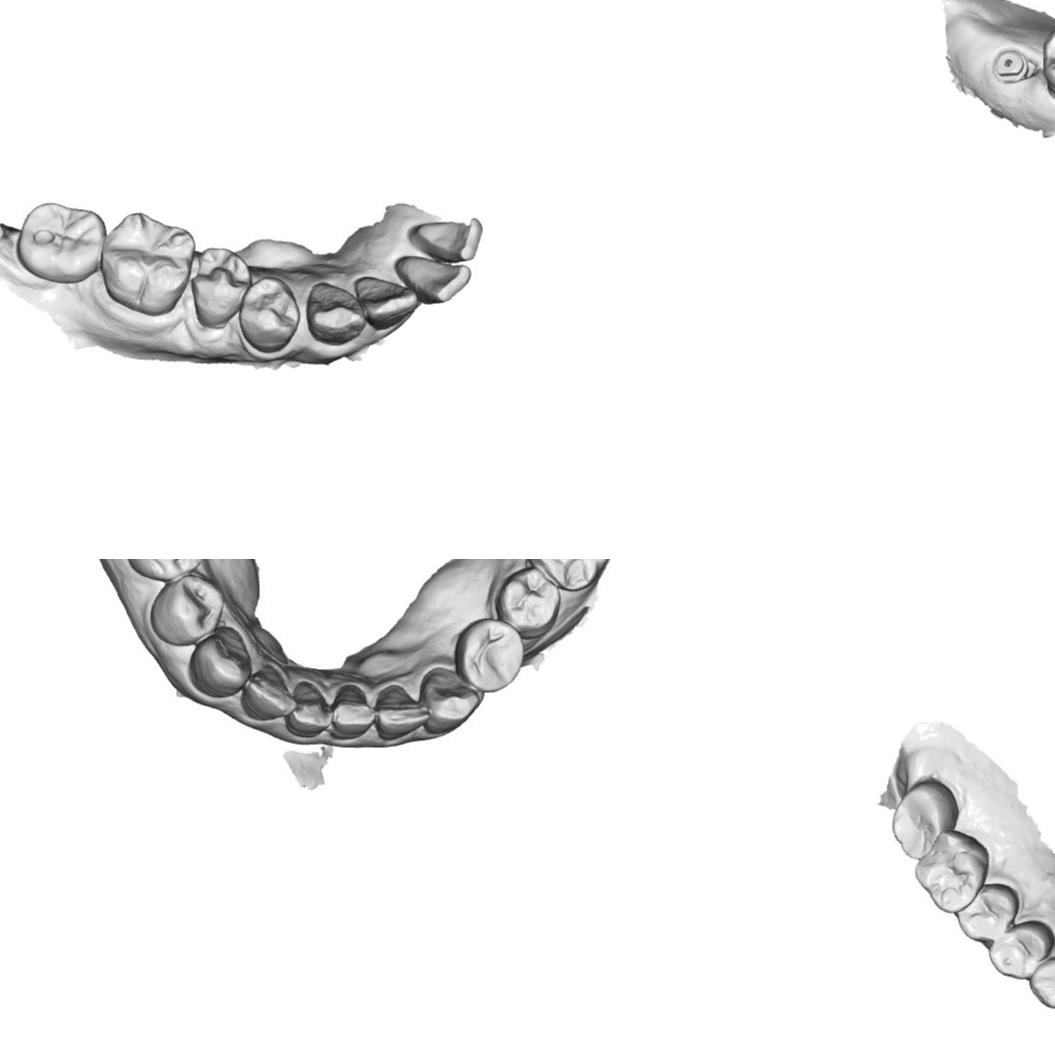canine: (187, 628, 250, 703), (307, 280, 366, 347), (422, 669, 479, 730), (1027, 950, 1055, 1010)
implant: (991, 46, 1028, 86)
incisor: (373, 683, 431, 748), (400, 254, 471, 305), (415, 214, 480, 267), (356, 272, 417, 328), (329, 682, 379, 747), (283, 676, 336, 733), (247, 663, 295, 721)
molar: (101, 211, 191, 316), (18, 194, 100, 277), (913, 831, 989, 913), (891, 779, 959, 860), (528, 559, 618, 587), (1040, 23, 1055, 103)
premolar: (151, 571, 222, 643), (460, 617, 522, 697), (193, 246, 250, 330), (242, 277, 301, 357), (496, 566, 563, 636), (986, 919, 1055, 980), (955, 884, 1018, 943), (126, 559, 202, 582)
